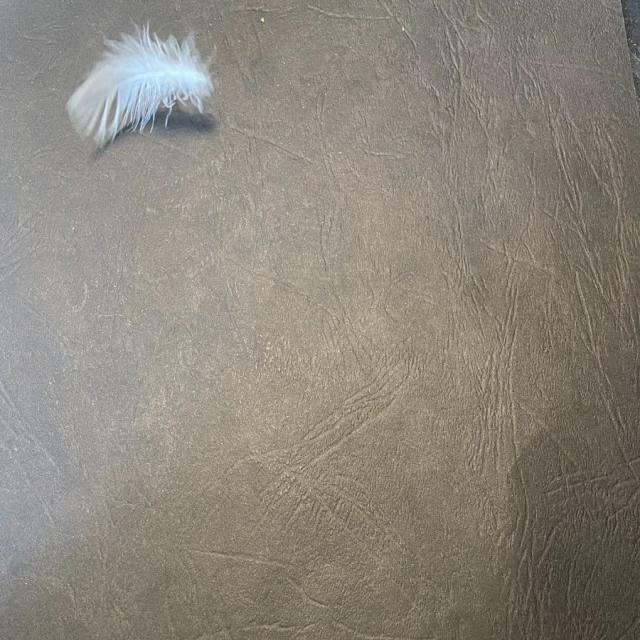feather: (65, 25, 221, 146)
